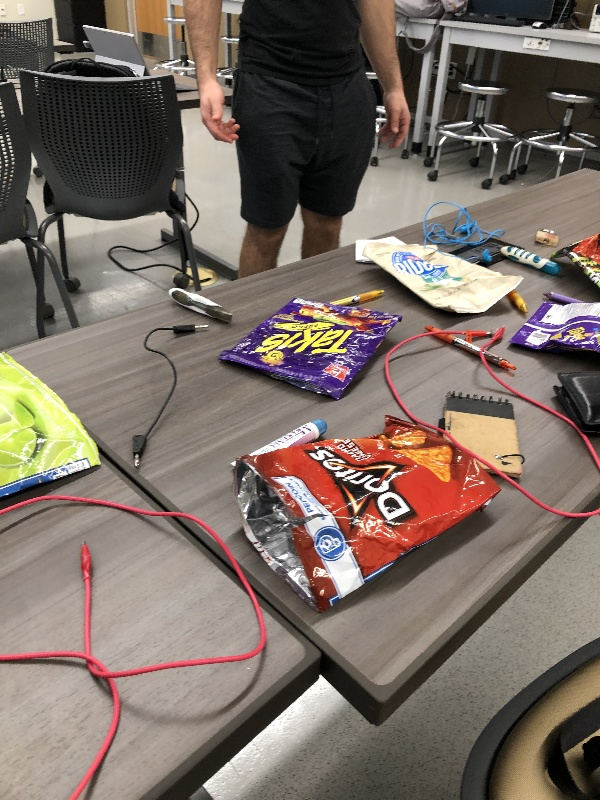bag: (229, 412, 505, 618), (212, 295, 400, 404), (1, 349, 105, 504), (357, 242, 524, 320), (509, 297, 600, 366), (545, 235, 600, 291)
